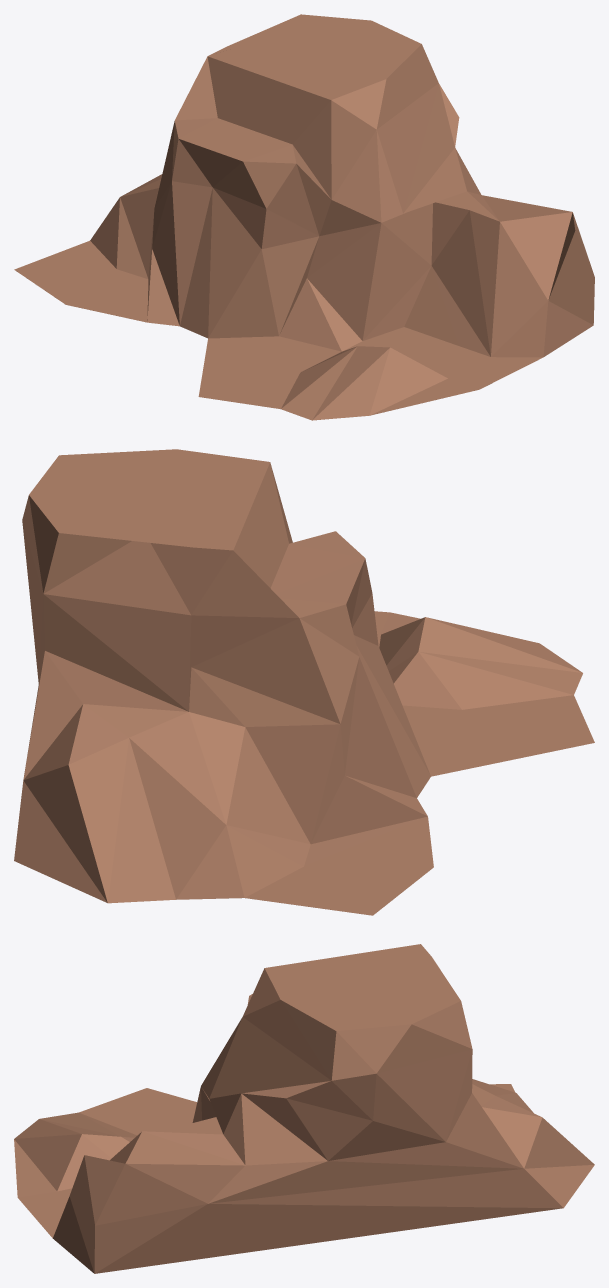
Rendered from 07 Mountain_2.FBX.
3 views of the same model, one above another, from view 1: azimuth 30°, elevation 25°; view 2: azimuth 150°, elevation 25°; view 3: azimuth 270°, elevation 25° (orthographic). The views are drawn at different scales.
Visible parts, largest first — view 1: Mountain_2; view 2: Mountain_2; view 3: Mountain_2.
Boxes of the visible parts, box(x1,y1,x2,y2) form: Mountain_2: box(14, 14, 594, 420); Mountain_2: box(14, 449, 594, 915); Mountain_2: box(14, 944, 594, 1273).
Size of the model in its own units: 2469 by 1301 by 3178.
